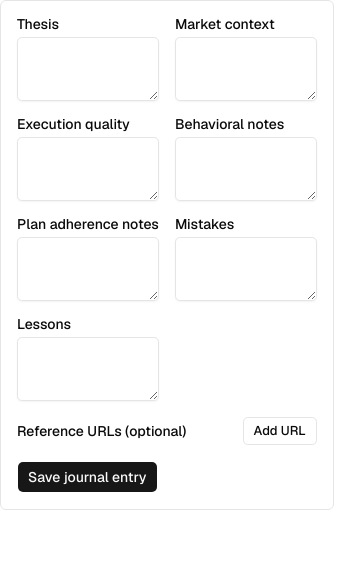
Scenario: JournalForm › adds and removes reference URL rows
The image size is (351, 567).
Expected: the field with placeholder "https://…" is not shown
Click the button "Add URL" at (280, 431), box [243,417,317,445]
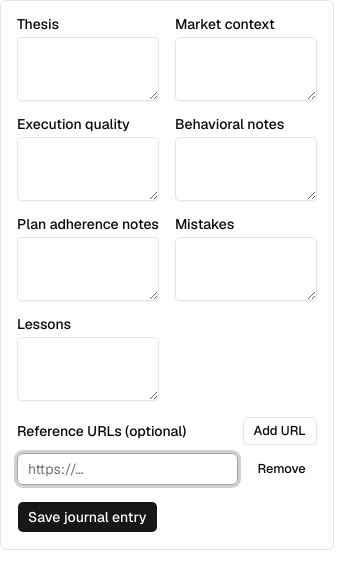
Result: the field with placeholder "https://…" is shown at [17,453,238,485]
Click the button "Remove" at (282, 469), box [246,455,317,483]
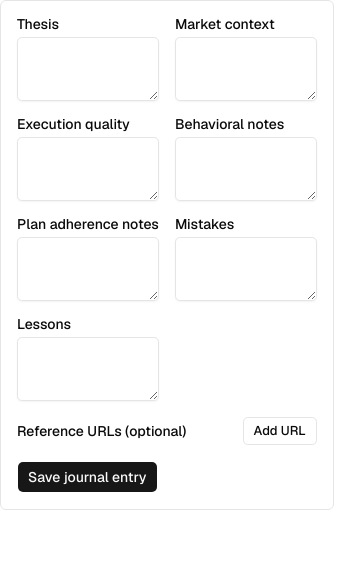
Result: the field with placeholder "https://…" is gone
